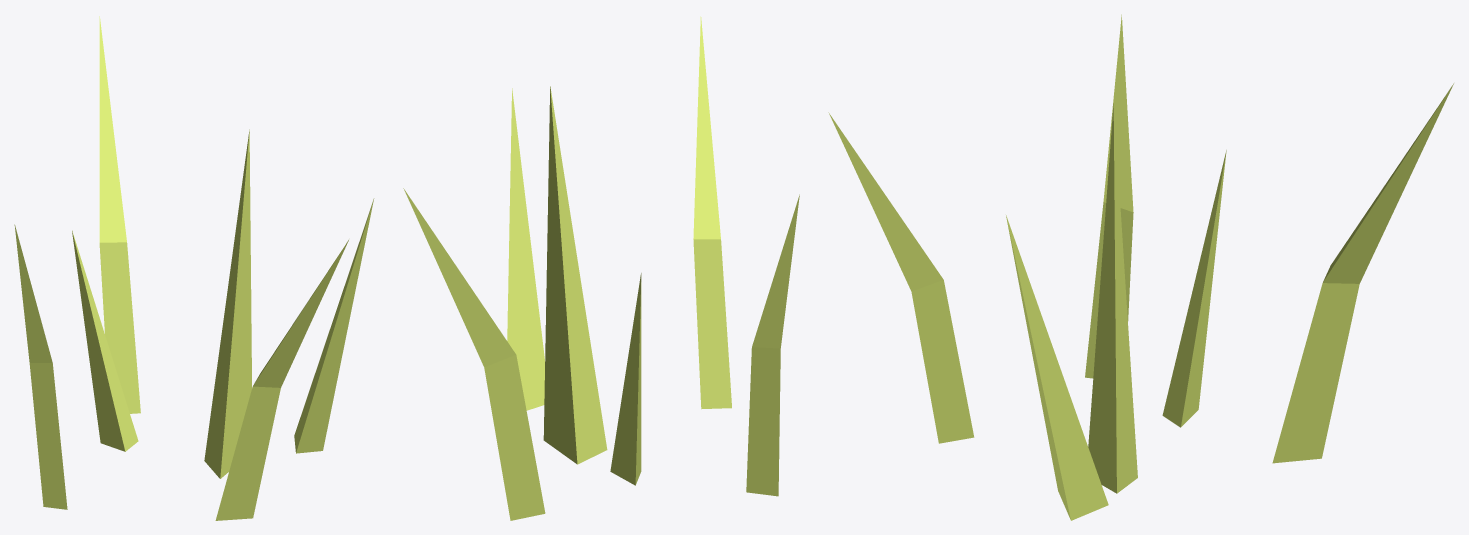
The model's file is Grass_D.fbx.
3 views of the same model, side by side, from view 1: azimuth 30°, elevation 25°; view 2: azimuth 150°, elevation 25°; view 3: azimuth 270°, elevation 25° (orthographic). The views are drawn at different scales.
Parts seen in each view (by area): view 1: Grass3D_a_05; view 2: Grass3D_a_05; view 3: Grass3D_a_05.
Boxes of the visible parts, left/top/right/bottom form: Grass3D_a_05: left=14, top=16, right=374, bottom=520; Grass3D_a_05: left=403, top=16, right=799, bottom=520; Grass3D_a_05: left=828, top=14, right=1453, bottom=520.
Bounding box in the file's own units: 49.72 × 52.55 × 72.22.
